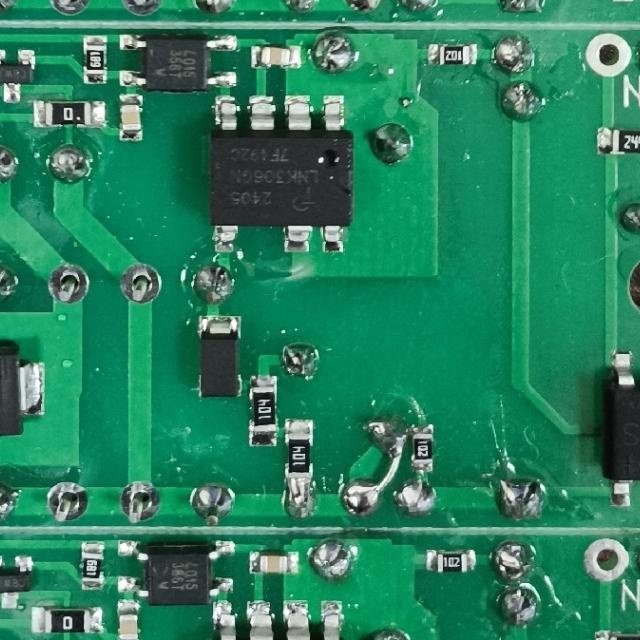chip-capacitor: (247, 549, 301, 575), (250, 44, 304, 69), (118, 92, 144, 142), (116, 598, 141, 640)
chip-resistor: (28, 603, 104, 636), (30, 98, 108, 130), (247, 373, 279, 449), (283, 417, 314, 482), (81, 32, 109, 87), (425, 41, 481, 67), (79, 538, 106, 591), (425, 547, 479, 573), (595, 125, 640, 156), (409, 423, 435, 475)
diode: (196, 314, 244, 401)
ic: (209, 94, 356, 255), (115, 536, 236, 605), (117, 31, 241, 92)
transistor: (0, 47, 37, 104), (0, 553, 35, 610)
